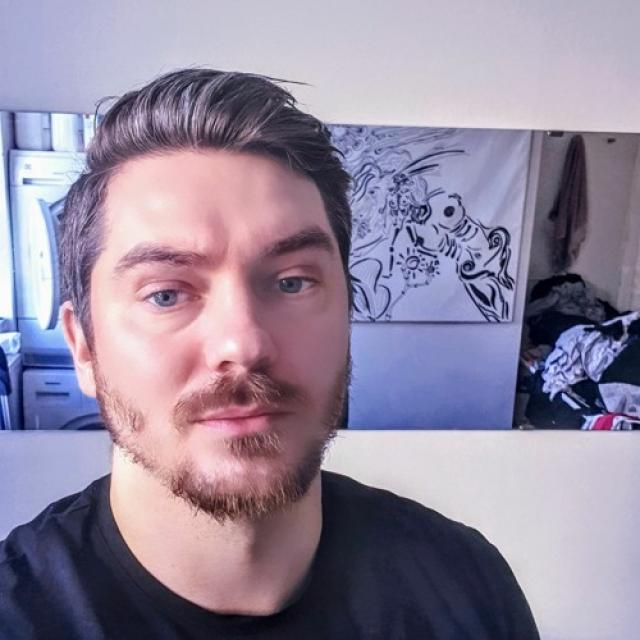earlobe: (73, 361, 98, 399)
eye: (142, 287, 203, 310), (261, 274, 319, 296)
nose: (207, 357, 284, 387)
wholeear: (60, 301, 98, 399)
